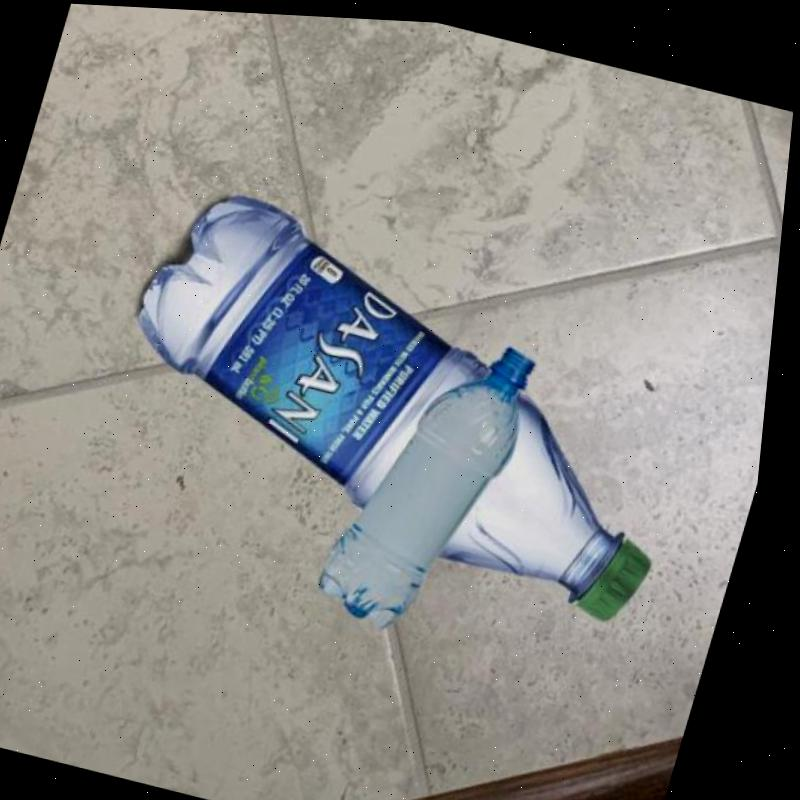botella: (84, 177, 736, 621), (314, 309, 551, 647)
